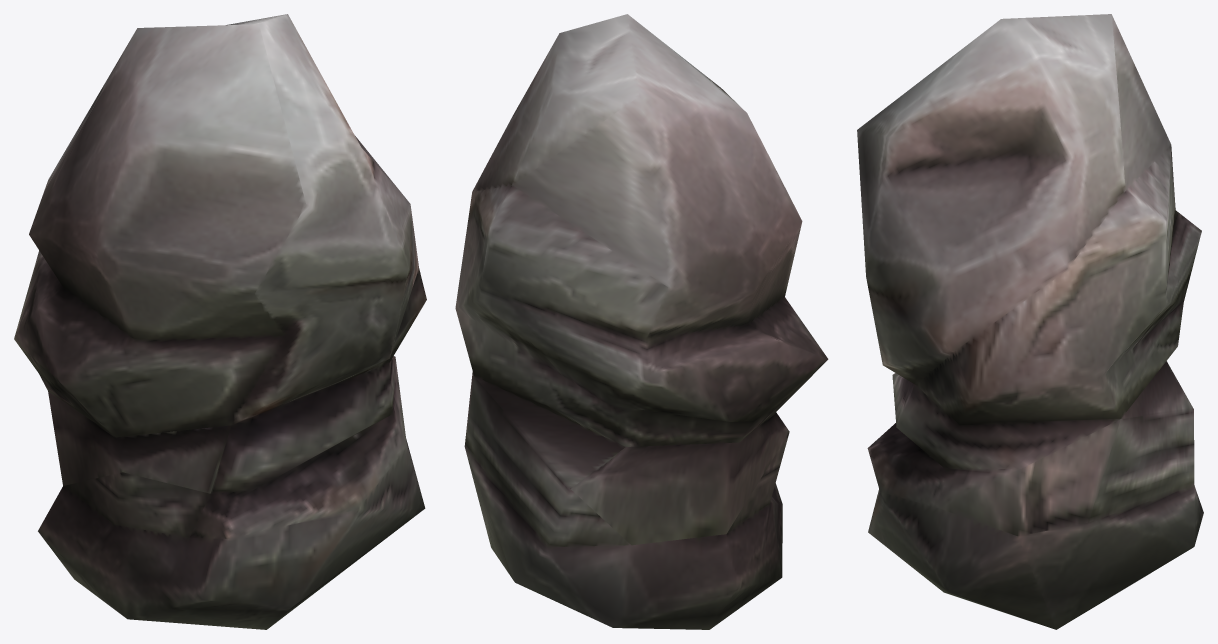
The model's file is Big 4.fbx.
3 renders of one model, left to right at view 1: azimuth 30°, elevation 25°; view 2: azimuth 150°, elevation 25°; view 3: azimuth 270°, elevation 25°, orthographic. The views are drawn at different scales.
Parts seen in each view (by area): view 1: Big_4; view 2: Big_4; view 3: Big_4.
Part boxes in pixels (bbox=[...]): Big_4: bbox=[14, 14, 426, 629]; Big_4: bbox=[455, 14, 828, 629]; Big_4: bbox=[857, 14, 1203, 629].
Size of the model in its own units: 330 by 516 by 278.
